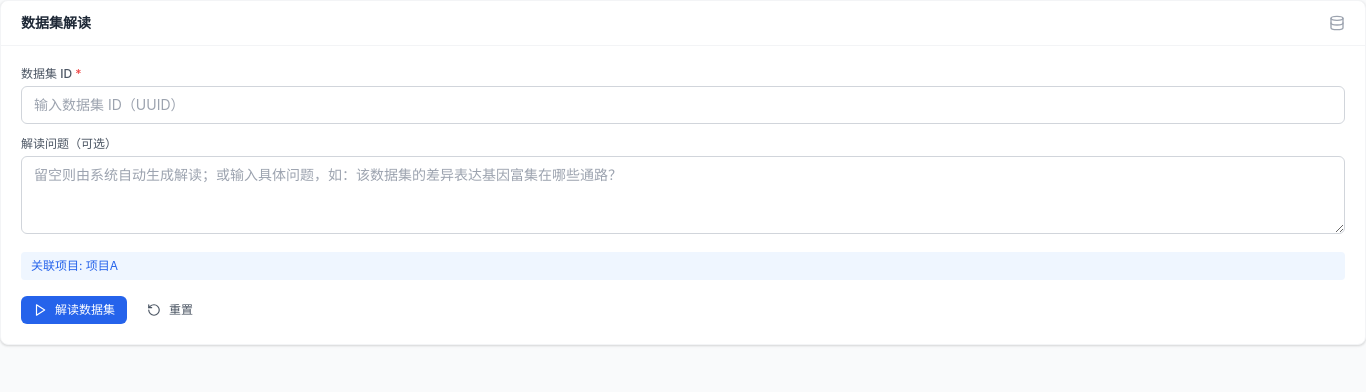
Test: DatasetInterpretCard › 未填数据集 ID 提交显示验证错误
Step 1. Click the button "解读数据集" → click(74, 310), box [21,296,127,324]
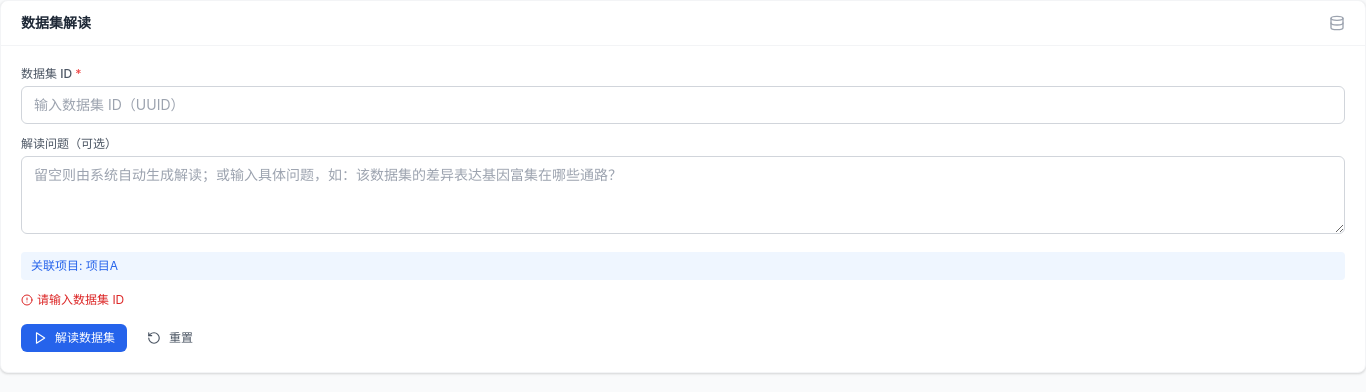
Now the text "请输入数据集 ID" is shown, box [37,292,124,308]
